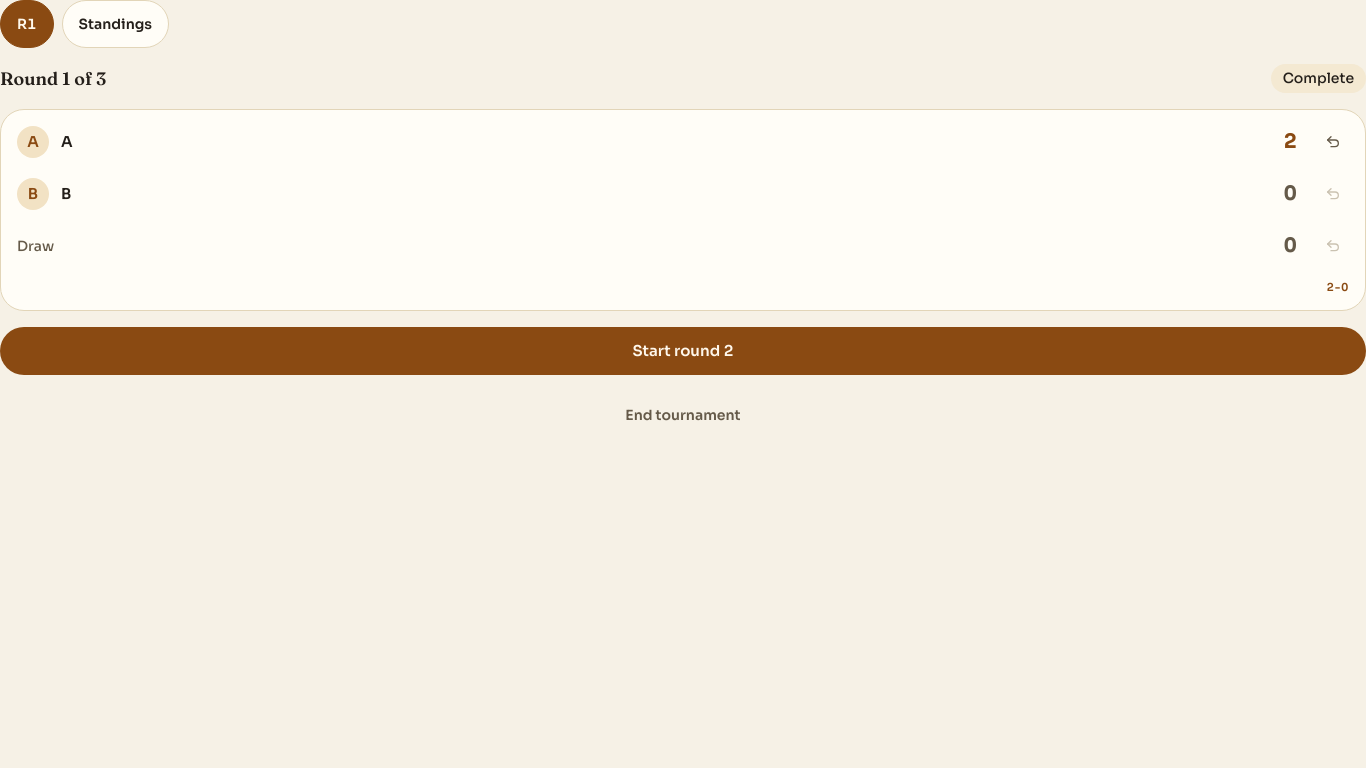
Test: SwissScreen › closes the drops sheet when dismissed
This screenshot has width=1366, height=768.
Click the button "Standings": (115, 24) x1=62 y1=0 x2=169 y2=48
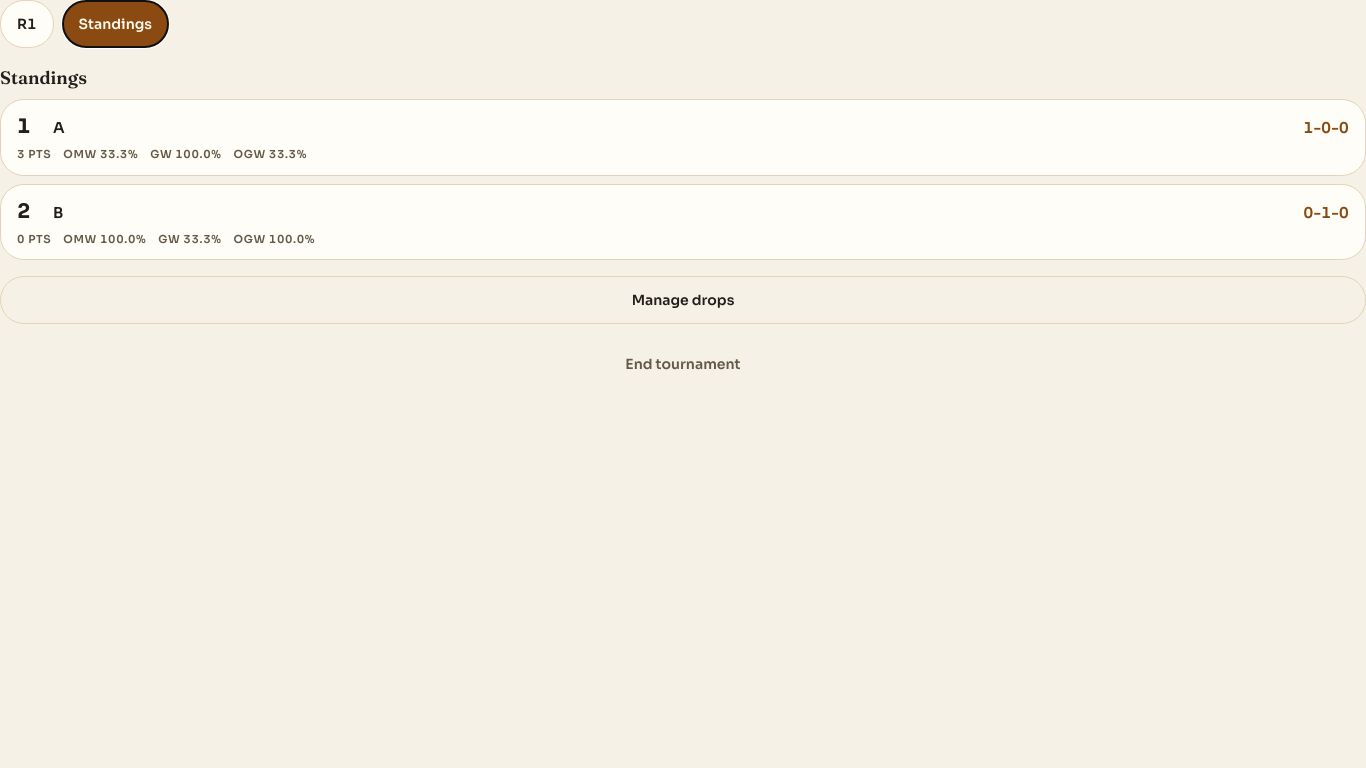
Click the button "Manage drops": (683, 300) x1=0 y1=276 x2=1365 y2=324
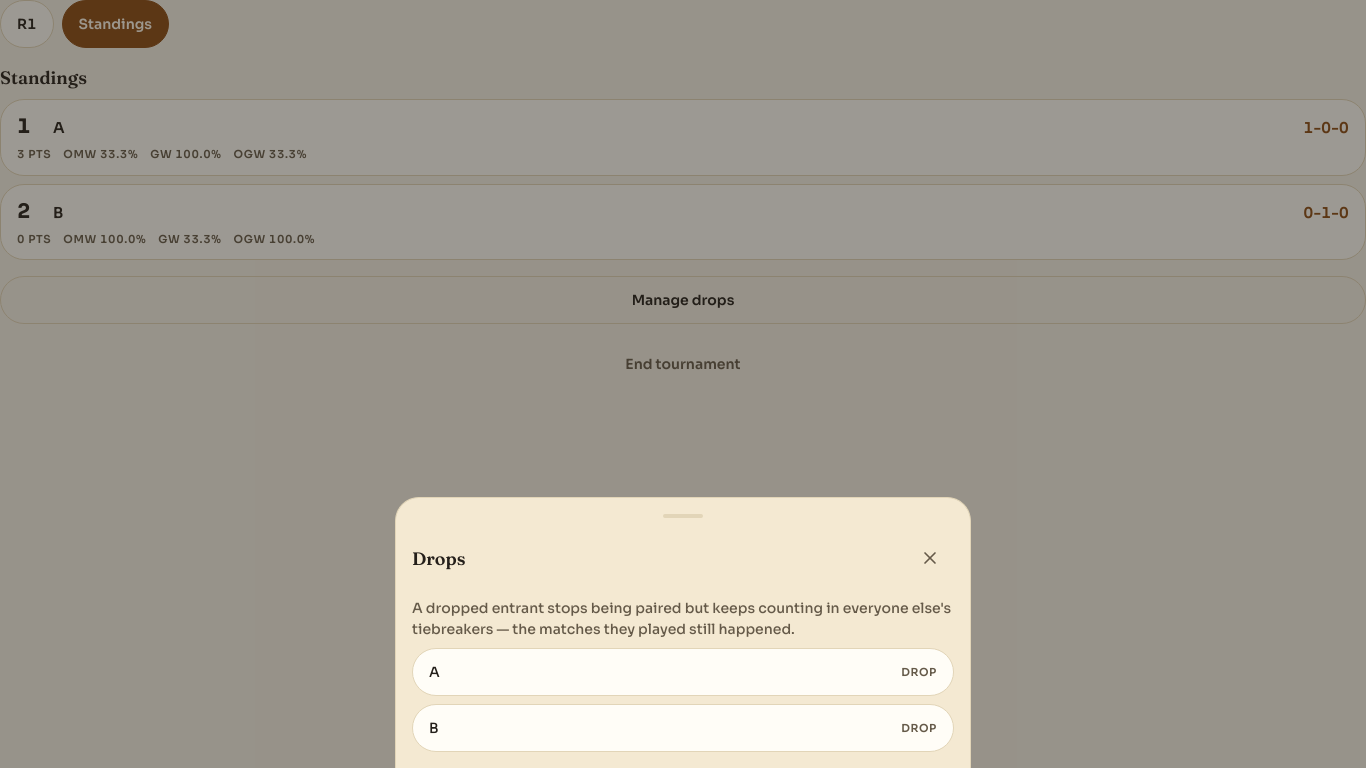
Click the button named "Close": (930, 558) x1=906 y1=534 x2=954 y2=582
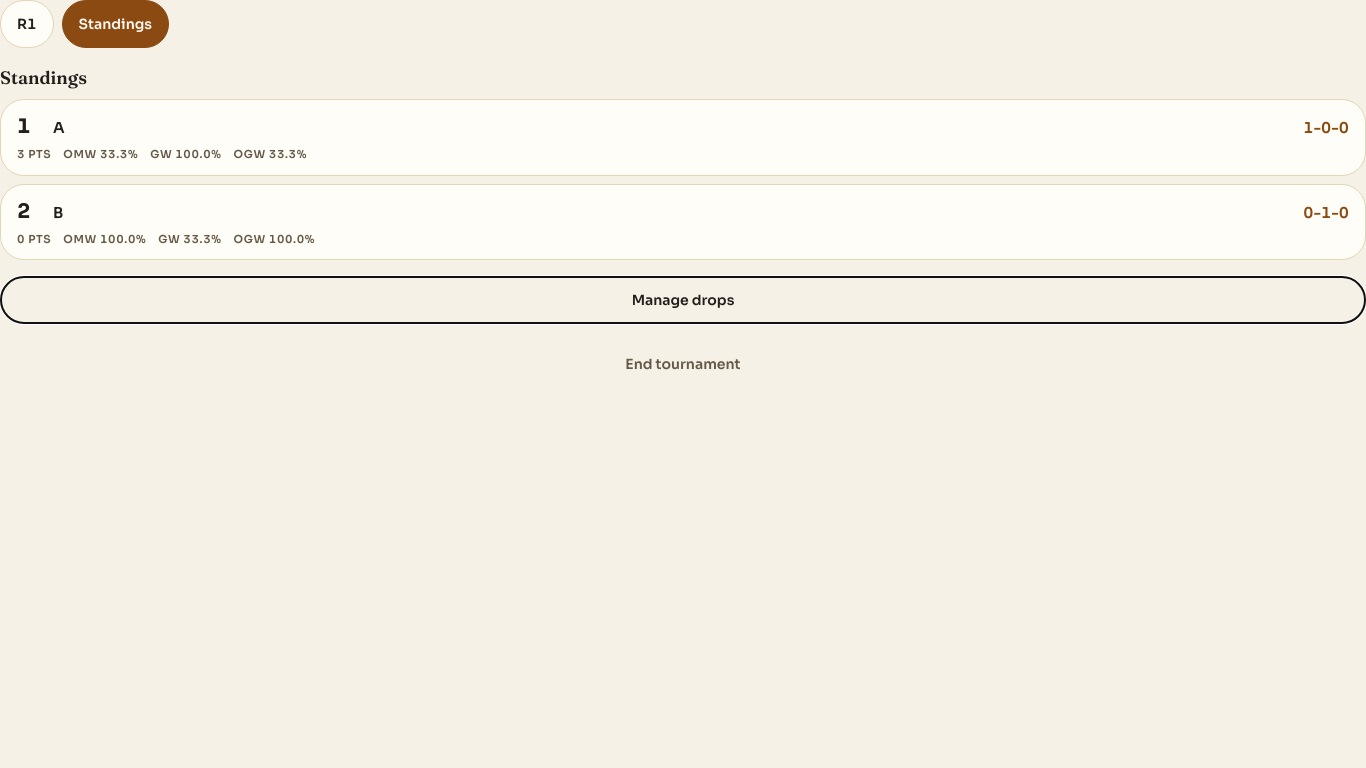
Check: the dialog is gone
